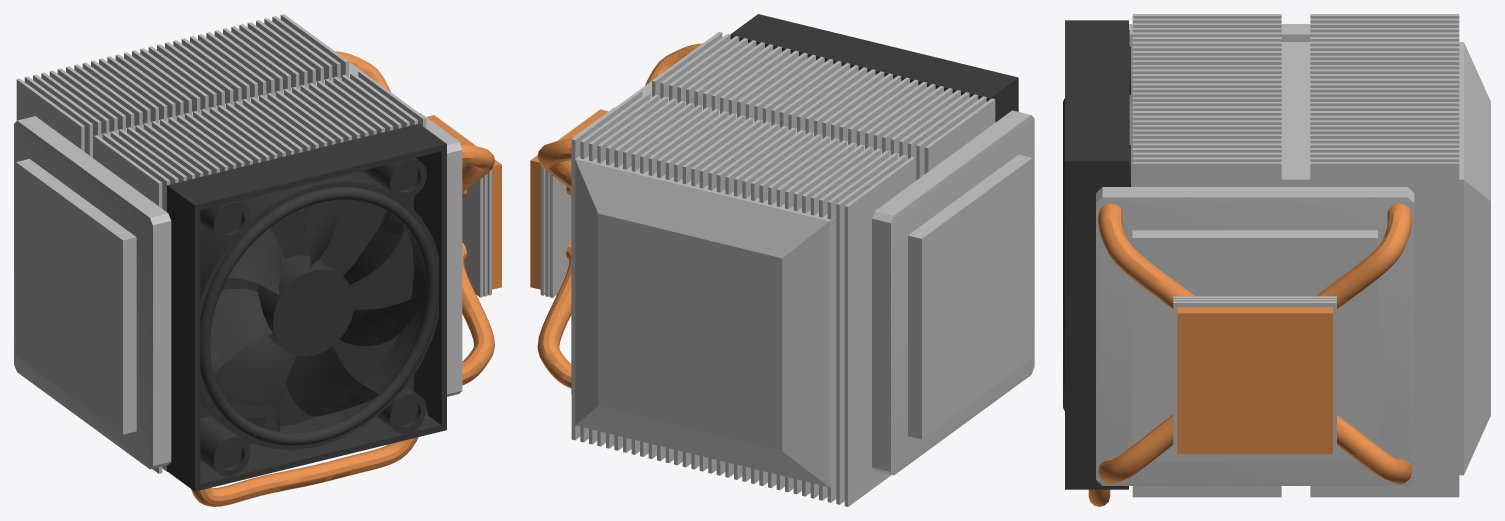
Rendered from 10_XXL_270_CPU.glb.
3 renders of one model, left to right at view 1: azimuth 30°, elevation 25°; view 2: azimuth 150°, elevation 25°; view 3: azimuth 270°, elevation 25°, orthographic. The views are drawn at different scales.
Parts seen in each view (by area): view 1: BezierCurve004; view 2: BezierCurve004; view 3: BezierCurve004.
Part boxes in pixels (left/top/right/bottom): BezierCurve004: left=14, top=14, right=501, bottom=506; BezierCurve004: left=530, top=14, right=1034, bottom=506; BezierCurve004: left=1063, top=14, right=1490, bottom=506.
Size of the model in its own units: 0.3868 by 0.3004 by 0.3134.
